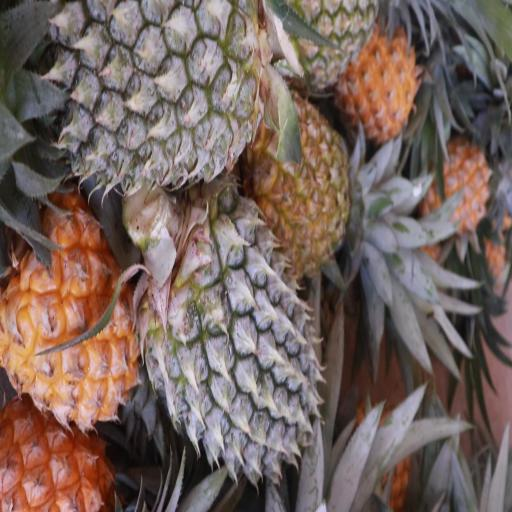------------------------------: (254, 92, 347, 259), (269, 0, 382, 87)
Pineapple - v8 v1: (0, 204, 126, 418), (340, 33, 417, 137), (423, 141, 494, 237)
